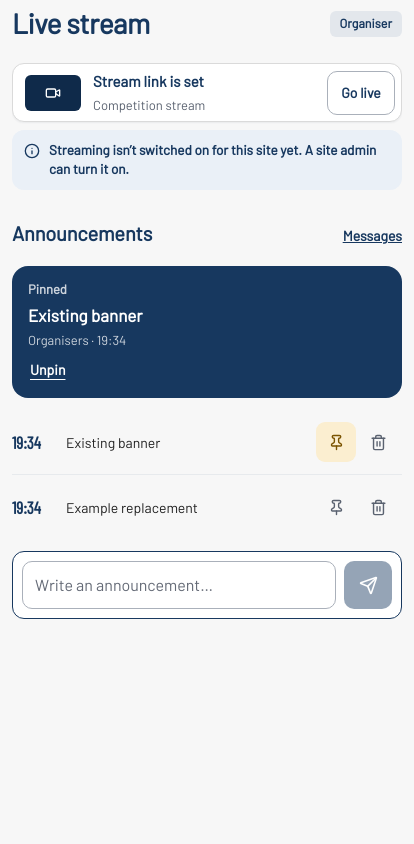
Test case: replaces the pin through one atomic request without deleting the announcement
Click the button named "Pin as banner: Example replacement" at coordinates (336, 507), box [316,487,356,527]
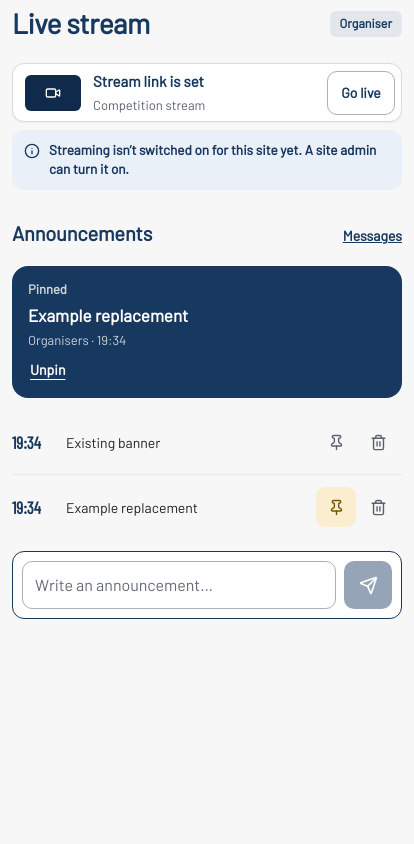
Expected: the message named "Pinned announcement" shows "Example replacement", [28,305,188,325]
Expected: the button named "Pin as banner: Existing banner" is shown, [316,422,356,462]
